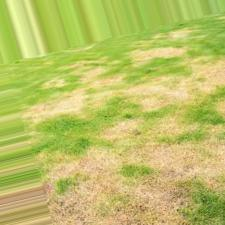patch: (59, 161, 172, 225), (137, 135, 165, 162), (108, 133, 133, 158), (181, 143, 209, 165), (69, 100, 93, 115), (170, 114, 184, 126)
